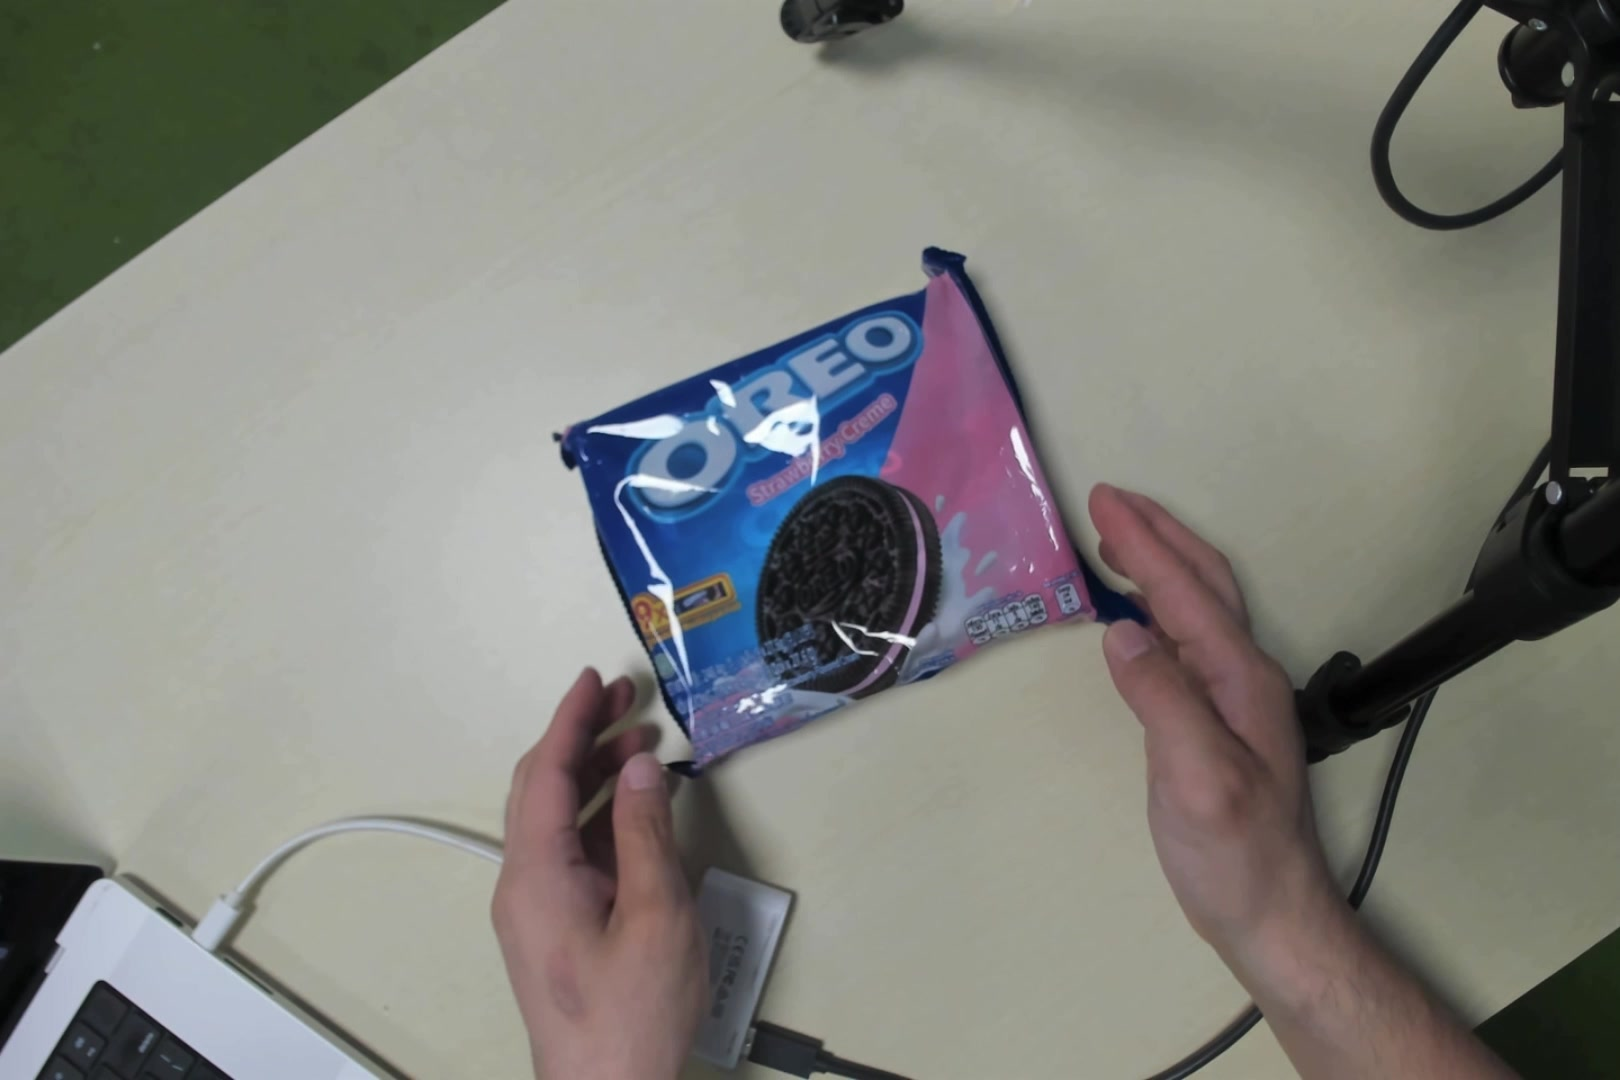SweetsChocolatesOthers_200-299g_Halal_NonHealthy: (607, 319, 1081, 720)
